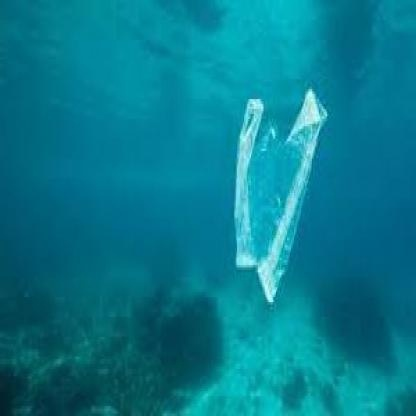pbag: (232, 86, 328, 310)
